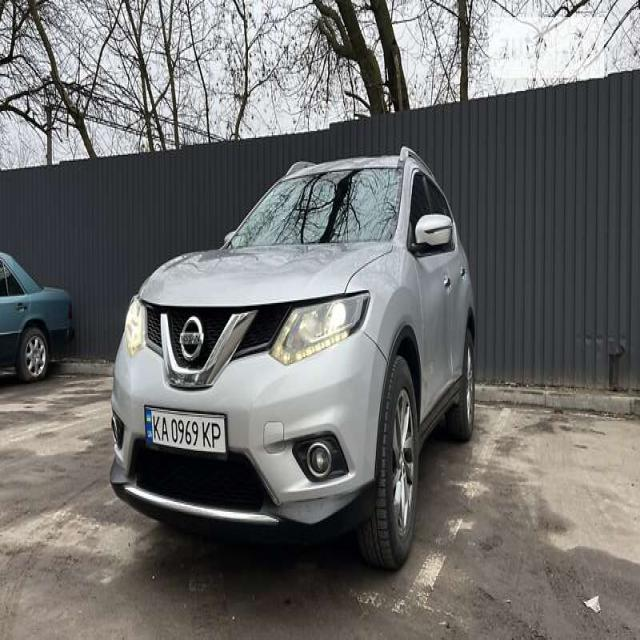plate: (144, 406, 230, 461)
